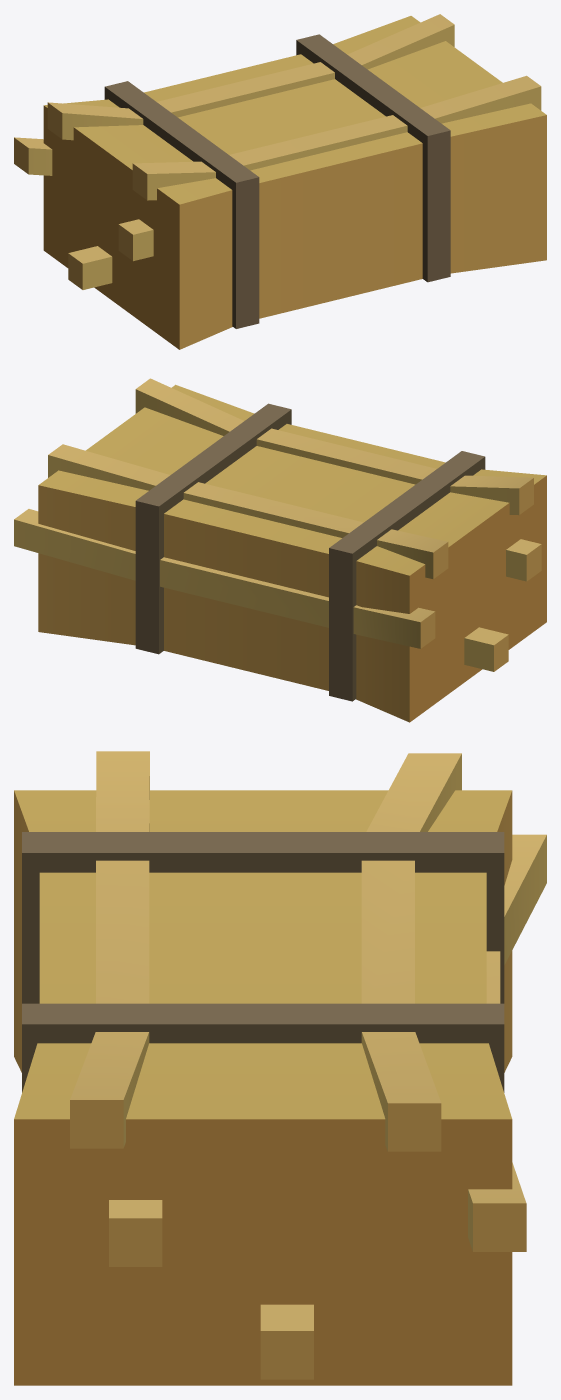
The model's file is Crops_Bale.gltf.
3 views of the same model, one above another, from view 1: azimuth 30°, elevation 25°; view 2: azimuth 150°, elevation 25°; view 3: azimuth 270°, elevation 25° (orthographic). The views are drawn at different scales.
Visible parts, largest first — view 1: SF_Prop_Crops_Bale_01; view 2: SF_Prop_Crops_Bale_01; view 3: SF_Prop_Crops_Bale_01.
Boxes of the visible parts, bbox=[...] form: SF_Prop_Crops_Bale_01: bbox=[14, 14, 546, 349]; SF_Prop_Crops_Bale_01: bbox=[14, 378, 546, 722]; SF_Prop_Crops_Bale_01: bbox=[14, 751, 546, 1385].
Size of the model in its own units: 0.0354 by 0.0129 by 0.0209.
Materials: 1 (1 with a texture image).
